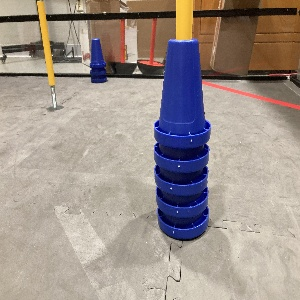Blue_3: (85, 35, 109, 86)
Blue_5: (148, 36, 219, 246)
